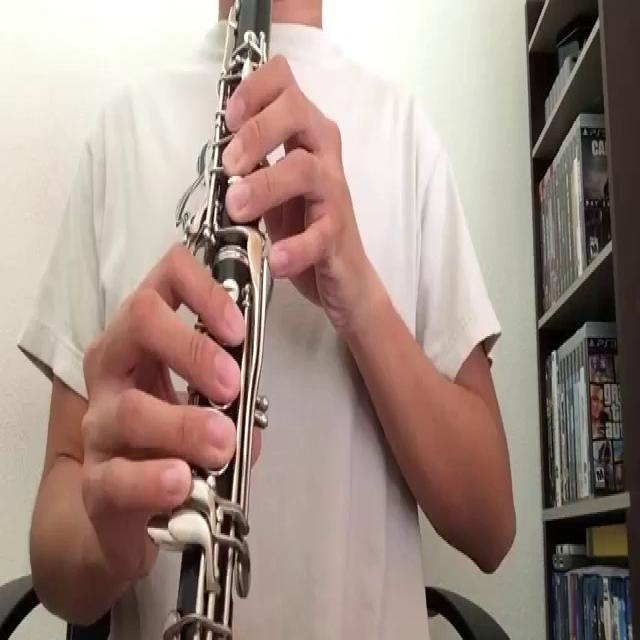Clarinet: (166, 0, 289, 636)
